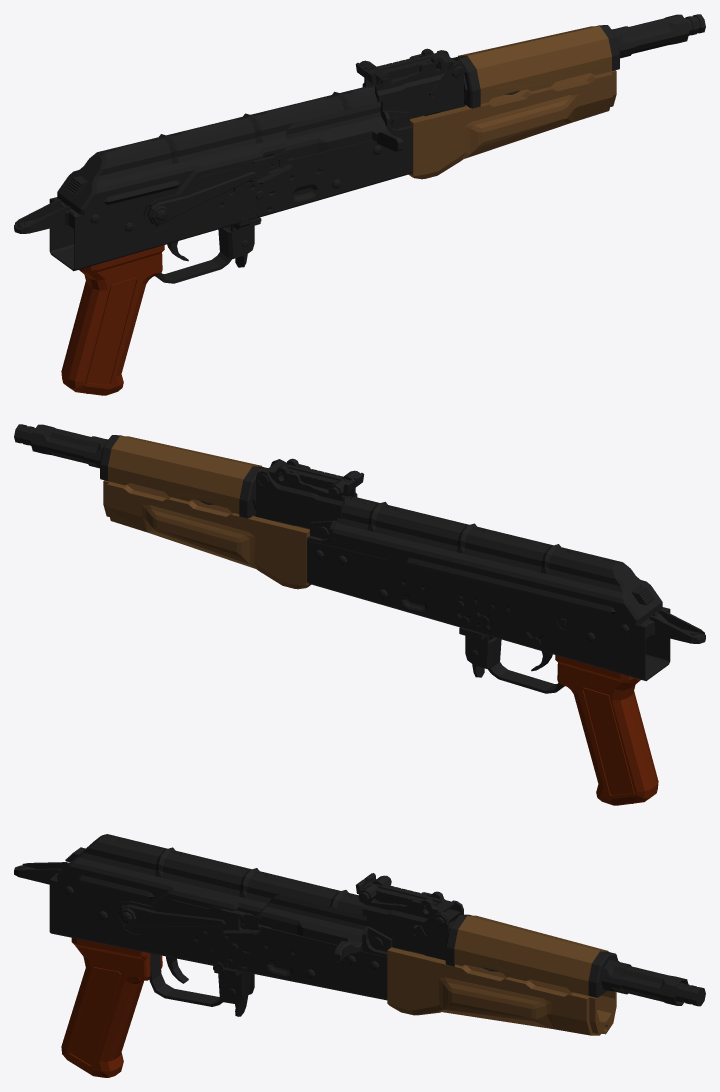
Rendered from akm.glb.
3 renders of one model, top to bottom at view 1: azimuth 30°, elevation 25°; view 2: azimuth 150°, elevation 25°; view 3: azimuth 330°, elevation 25°, orthographic.
Visible parts, largest first — view 1: akm receiver_3, akm handguard_7, akm dust cover_8, akm grip_4, akm bolt_9, akm selector_2; view 2: akm receiver_3, akm dust cover_8, akm handguard_7, akm grip_4; view 3: akm receiver_3, akm handguard_7, akm dust cover_8, akm grip_4, akm bolt_9, akm selector_2, akm mag release_6.
Part boxes in pixels (x1,y1,x2,y2): akm receiver_3: [14, 14, 689, 283]; akm handguard_7: [408, 26, 616, 179]; akm dust cover_8: [57, 86, 377, 215]; akm grip_4: [61, 245, 164, 395]; akm bolt_9: [263, 14, 705, 158]; akm selector_2: [143, 151, 292, 227]; akm receiver_3: [30, 424, 705, 693]; akm dust cover_8: [332, 496, 662, 625]; akm handguard_7: [103, 436, 311, 589]; akm grip_4: [555, 655, 658, 805]; akm receiver_3: [14, 847, 688, 1006]; akm handguard_7: [387, 915, 616, 1035]; akm dust cover_8: [57, 834, 378, 915]; akm grip_4: [61, 938, 162, 1077]; akm bolt_9: [241, 895, 705, 1006]; akm selector_2: [117, 896, 260, 935]; akm mag release_6: [229, 972, 251, 1016].
Bounding box in the file's own units: 5.26 × 1.91 × 0.6313.
